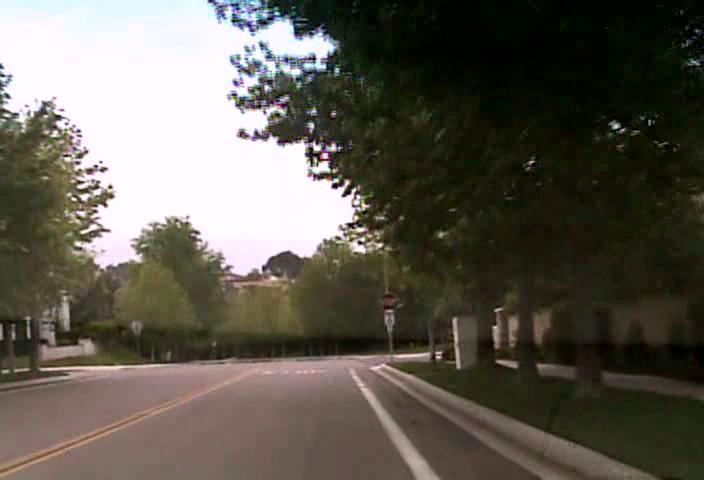stop: (379, 291, 399, 310)
